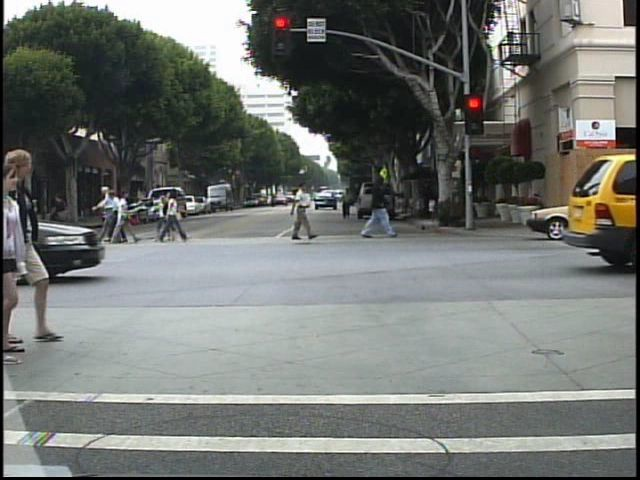person: (7, 146, 51, 349), (3, 164, 38, 363), (361, 169, 395, 242), (109, 188, 140, 251), (289, 177, 319, 242), (163, 188, 186, 246), (98, 181, 115, 246), (340, 184, 356, 220), (117, 187, 118, 246)
